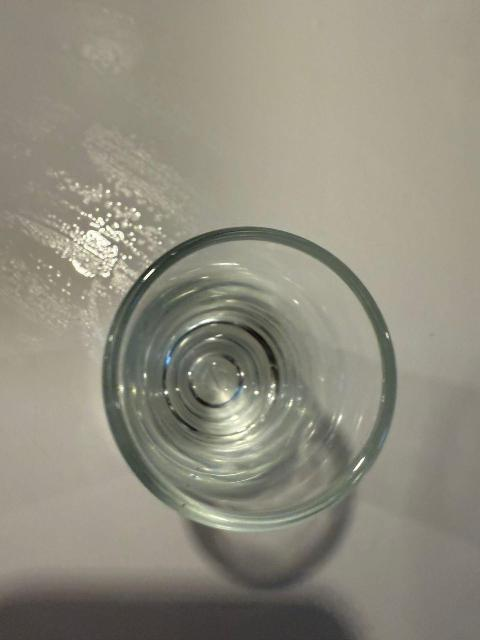Cam: (104, 224, 397, 532)
